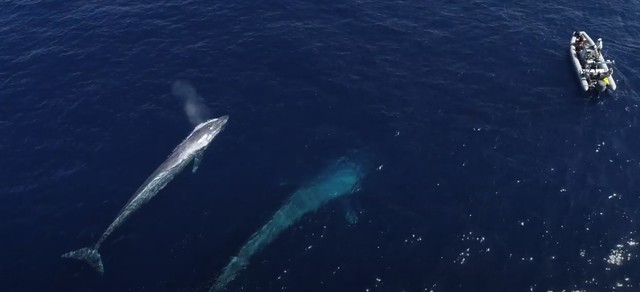whale: (57, 99, 237, 283), (198, 136, 391, 288)
